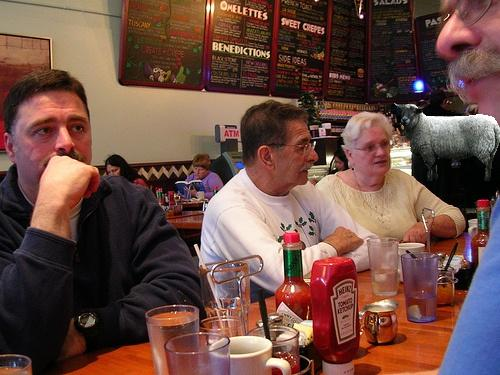tampered: (395, 104, 500, 181)
